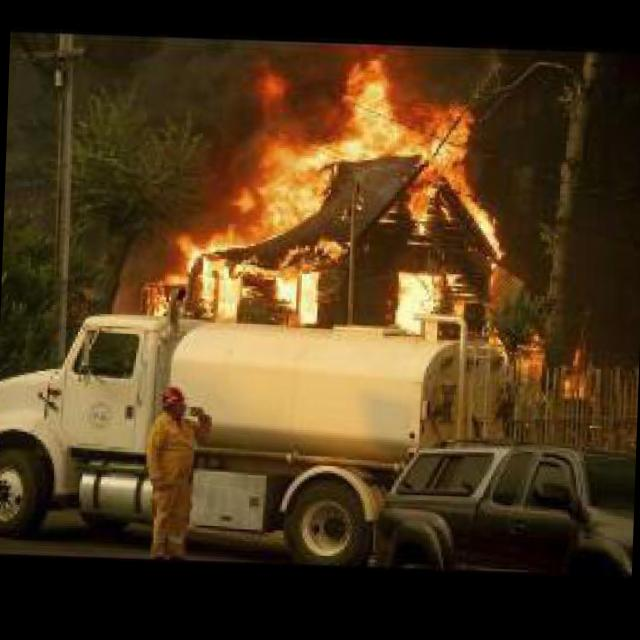fire: (137, 43, 503, 330), (505, 328, 590, 404)
